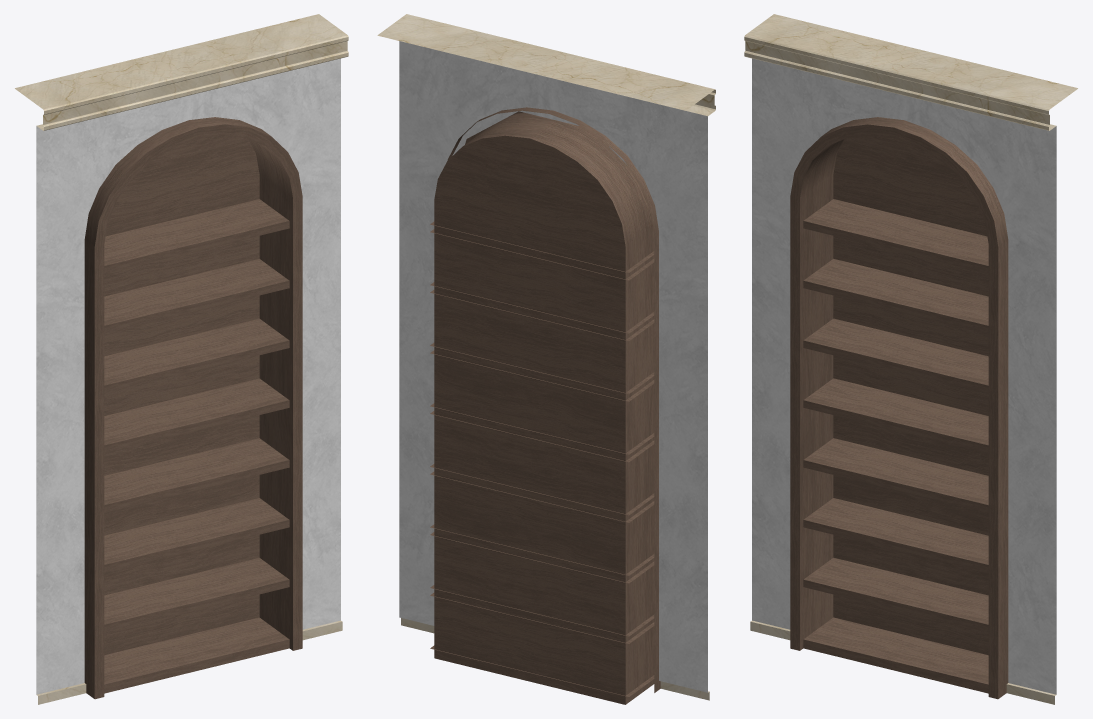
3 views of the same model, side by side, from view 1: azimuth 30°, elevation 25°; view 2: azimuth 150°, elevation 25°; view 3: azimuth 330°, elevation 25° (orthographic).
Parts seen in each view (by area): view 1: M_W_201_f_3x6; view 2: M_W_201_f_3x6; view 3: M_W_201_f_3x6.
Boxes of the visible parts, x1,y1,x2,y2 form: M_W_201_f_3x6: (15,14,348,704); M_W_201_f_3x6: (377,14,715,704); M_W_201_f_3x6: (744,14,1077,704).
Size of the model in its own units: 3.2 by 6.02 by 0.6185.
